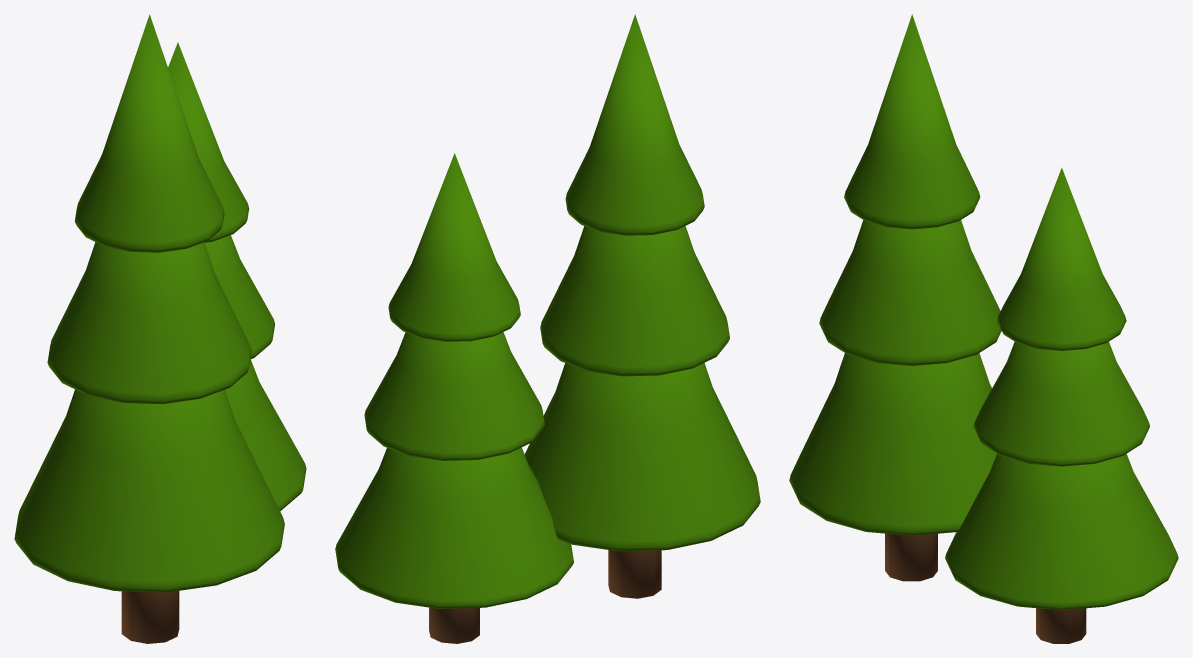
The model's file is Trees.fbx.
The picture shows the model from 3 angles, left to right: view 1: azimuth 30°, elevation 25°; view 2: azimuth 150°, elevation 25°; view 3: azimuth 270°, elevation 25°; orthographic projection. The views are drawn at different scales.
Parts seen in each view (by area): view 1: Tree 01; view 2: Tree 01; view 3: Tree 01.
Part boxes in pixels (box(x1,y1,x2,y2)): Tree 01: box(14, 14, 306, 643); Tree 01: box(335, 14, 760, 643); Tree 01: box(789, 14, 1178, 643).
Bounding box in the file's own units: 168 × 297 × 184.
